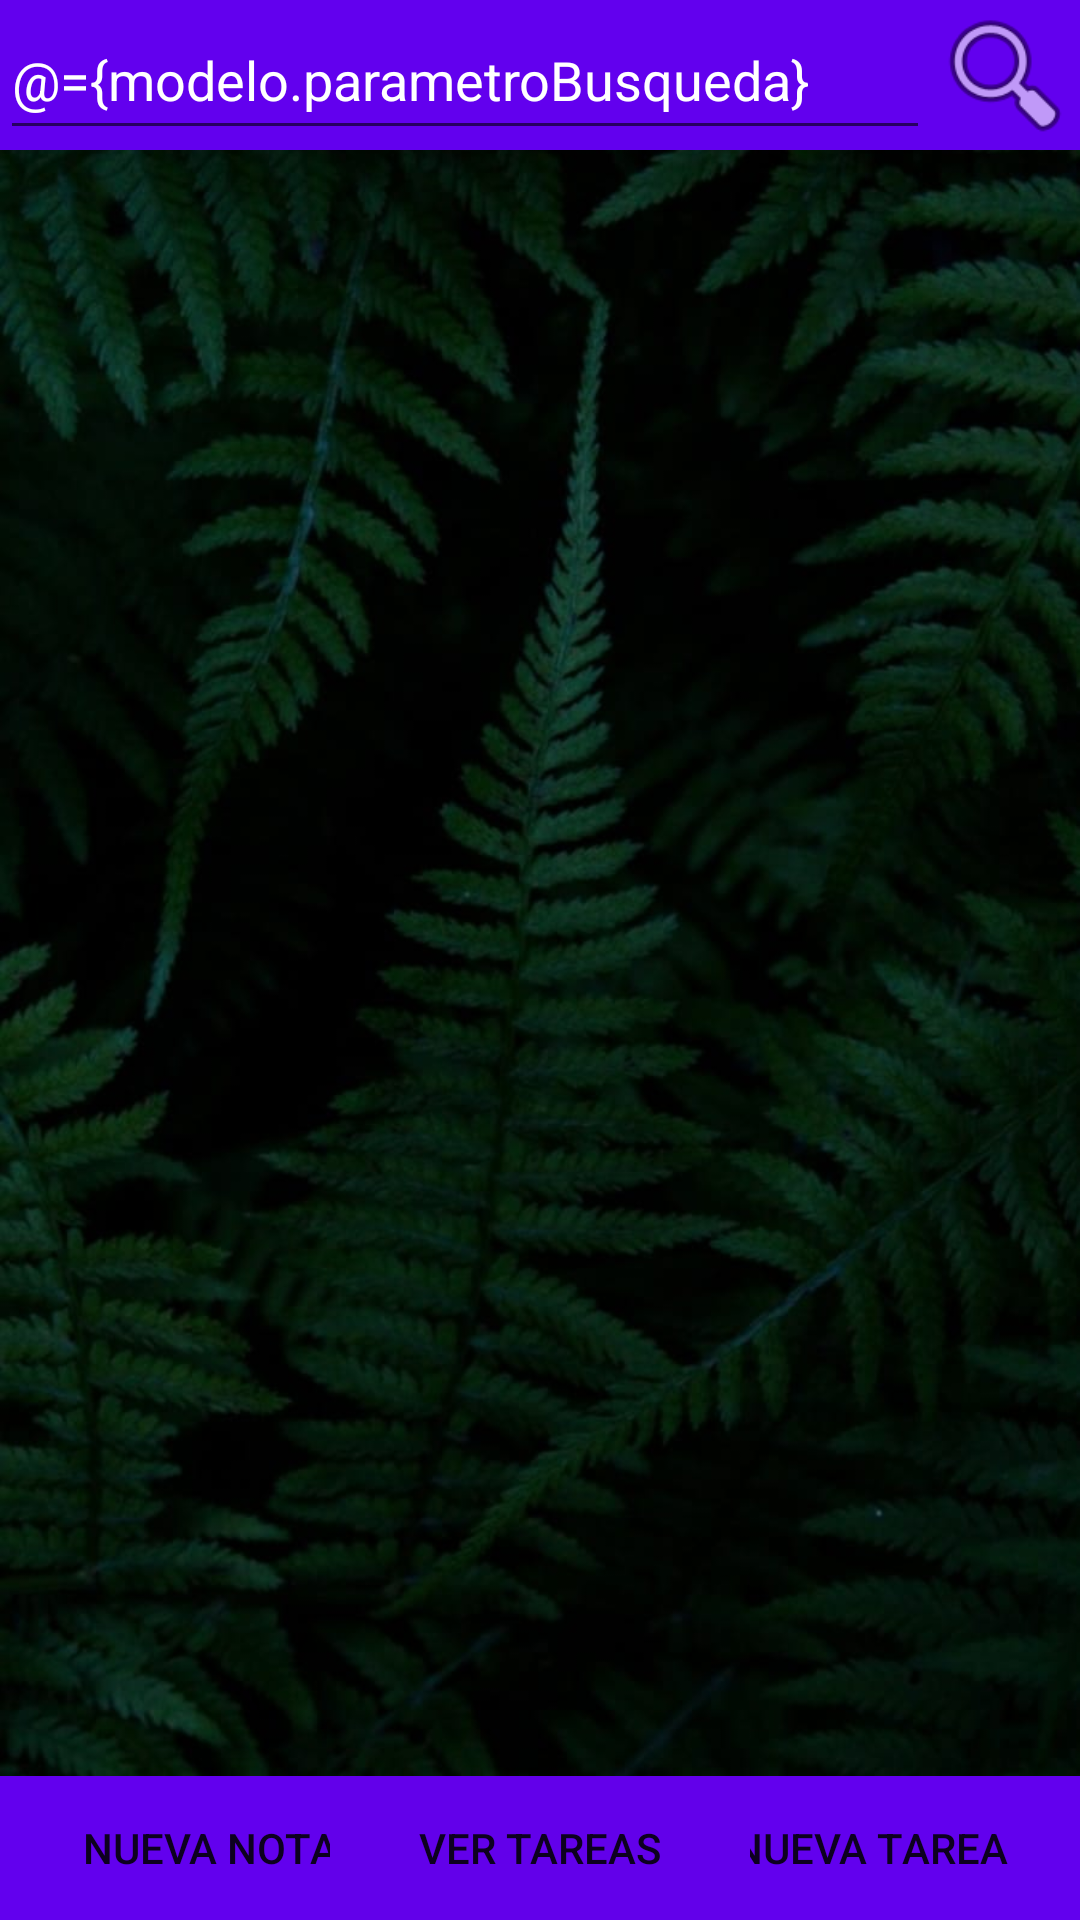

Point at icon controls on the screen. Image size 1080w x 1920h, points as (x=x, y=y).
search: (x=1005, y=75)
